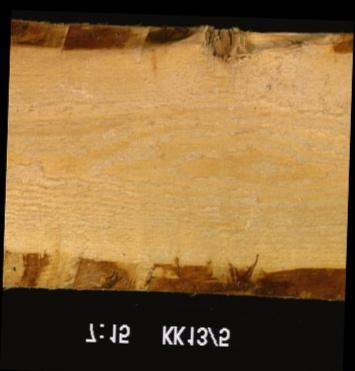wave: (1, 254, 344, 293), (9, 26, 352, 64)
